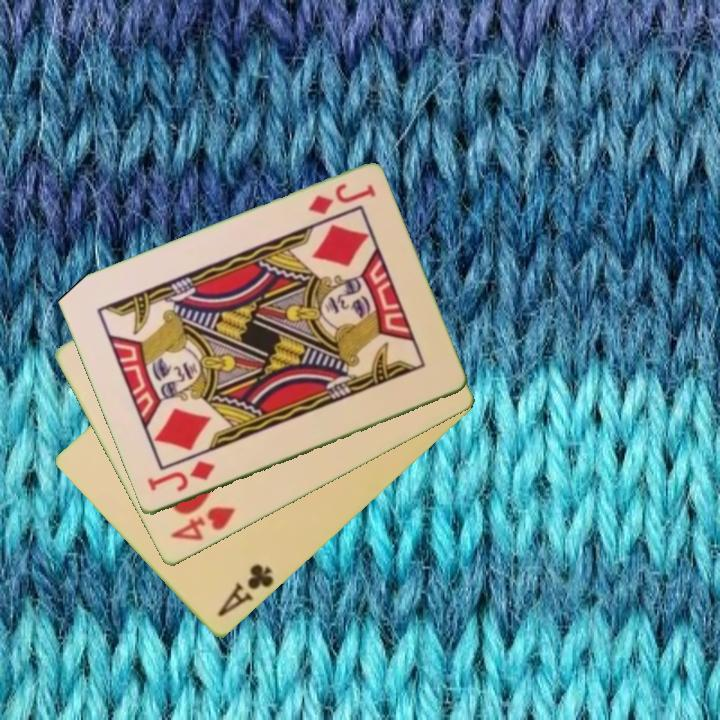4h: (166, 503, 239, 545)
Ac: (214, 561, 277, 621)
Jd: (303, 180, 379, 219), (143, 457, 218, 495)
